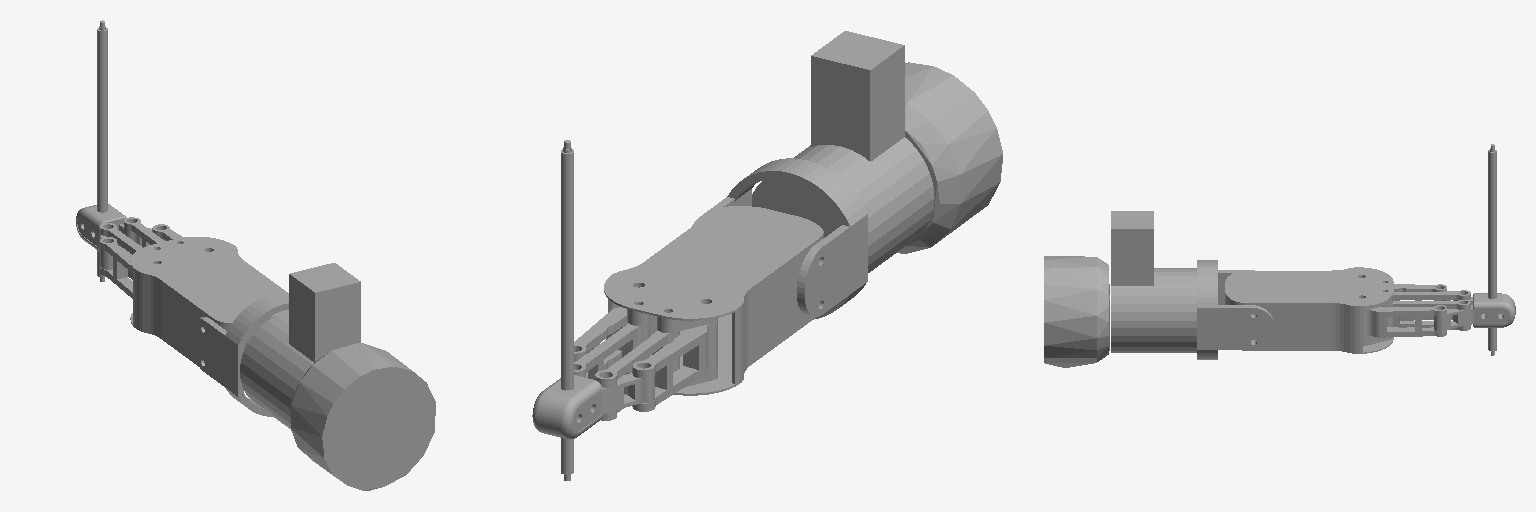
The robot description file, URDF, robot "ur5e_gripper":
<?xml version="1.0" encoding="utf-8"?>
<!-- =================================================================================== -->
<!-- |    This document was autogenerated by xacro from ur5e_robot.urdf.xacro          | -->
<!-- |    EDITING THIS FILE BY HAND IS NOT RECOMMENDED                                 | -->
<!-- =================================================================================== -->
<robot name="ur5e_gripper" xmlns:xacro="http://ros.org/wiki/xacro">
  
  <!--################################################
  ########              arm                    #######
  ####################################################-->

  <link name="base_link">
    <visual>
      <geometry>
        <mesh filename="package://moveit_resources_ur5e_description/meshes/ur5e/visual/base.dae"/>
      </geometry>
      <material name="LightGrey">
        <color rgba="0.7 0.7 0.7 1.0"/>
      </material>
    </visual>
    <collision>
      <geometry>
        <mesh filename="package://moveit_resources_ur5e_description/meshes/ur5e/collision/base.stl" scale="1.0 1.0 1.0"/>
      </geometry>
    </collision>
    <inertial>
      <mass value="4.0"/>
      <origin rpy="0 0 0" xyz="0.0 0.0 0.0"/>
      <inertia ixx="0.00443333156" ixy="0.0" ixz="0.0" iyy="0.00443333156" iyz="0.0" izz="0.0072"/>
    </inertial>
  </link>
  <joint name="shoulder_pan_joint" type="revolute">
    <parent link="base_link"/>
    <child link="shoulder_link"/>
    <origin rpy="0.0 0.0 0.0" xyz="0.0 0.0 0.163"/>
    <axis xyz="0 0 1"/>
    <limit effort="150.0" lower="-6.28318530718" upper="6.28318530718" velocity="3.14"/>
    <dynamics damping="0.0" friction="0.0"/>
  </joint>
  <link name="shoulder_link">
    <visual>
      <geometry>
        <mesh filename="package://moveit_resources_ur5e_description/meshes/ur5e/visual/shoulder.dae"/>
      </geometry>
      <material name="LightGrey">
        <color rgba="0.7 0.7 0.7 1.0"/>
      </material>
    </visual>
    <collision>
      <geometry>
        <mesh filename="package://moveit_resources_ur5e_description/meshes/ur5e/collision/shoulder.stl" scale="1.0 1.0 1.0"/>
      </geometry>
    </collision>
    <inertial>
      <mass value="3.7"/>
      <origin rpy="0 0 0" xyz="0.0 0.0 0.0"/>
      <inertia ixx="0.010267495893" ixy="0.0" ixz="0.0" iyy="0.010267495893" iyz="0.0" izz="0.00666"/>
    </inertial>
  </link>
  <joint name="shoulder_lift_joint" type="revolute">
    <parent link="shoulder_link"/>
    <child link="upper_arm_link"/>
    <origin rpy="0.0 1.57079632679 0.0" xyz="0.0 0.138 0.0"/>
    <axis xyz="0 1 0"/>
    <limit effort="150.0" lower="-6.28318530718" upper="6.28318530718" velocity="3.14"/>
    <dynamics damping="0.0" friction="0.0"/>
  </joint>
  <link name="upper_arm_link">
    <visual>
      <geometry>
        <mesh filename="package://moveit_resources_ur5e_description/meshes/ur5e/visual/upperarm.dae"/>
      </geometry>
      <material name="LightGrey">
        <color rgba="0.7 0.7 0.7 1.0"/>
      </material>
    </visual>
    <collision>
      <geometry>
        <mesh filename="package://moveit_resources_ur5e_description/meshes/ur5e/collision/upperarm.stl" scale="1.0 1.0 1.0"/>
      </geometry>
    </collision>
    <inertial>
      <mass value="8.393"/>
      <origin rpy="0 0 0" xyz="0.0 0.0 0.2125"/>
      <inertia ixx="0.133885781862" ixy="0.0" ixz="0.0" iyy="0.133885781862" iyz="0.0" izz="0.0151074"/>
    </inertial>
  </link>
  <joint name="elbow_joint" type="revolute">
    <parent link="upper_arm_link"/>
    <child link="forearm_link"/>
    <origin rpy="0.0 0.0 0.0" xyz="0.0 -0.131 0.425"/>
    <axis xyz="0 1 0"/>
    <limit effort="150.0" lower="-3.14159265359" upper="3.14159265359" velocity="3.14"/>
    <dynamics damping="0.0" friction="0.0"/>
  </joint>
  <link name="forearm_link">
    <visual>
      <geometry>
        <mesh filename="package://moveit_resources_ur5e_description/meshes/ur5e/visual/forearm.dae"/>
      </geometry>
      <material name="LightGrey">
        <color rgba="0.7 0.7 0.7 1.0"/>
      </material>
    </visual>
    <collision>
      <geometry>
        <mesh filename="package://moveit_resources_ur5e_description/meshes/ur5e/collision/forearm.stl" scale="1.0 1.0 1.0"/>
      </geometry>
    </collision>
    <inertial>
      <mass value="2.275"/>
      <origin rpy="0 0 0" xyz="0.0 0.0 0.196"/>
      <inertia ixx="0.0311796208615" ixy="0.0" ixz="0.0" iyy="0.0311796208615" iyz="0.0" izz="0.004095"/>
    </inertial>
  </link>
  <joint name="wrist_1_joint" type="revolute">
    <parent link="forearm_link"/>
    <child link="wrist_1_link"/>
    <origin rpy="0.0 1.57079632679 0.0" xyz="0.0 0.0 0.392"/>
    <axis xyz="0 1 0"/>
    <limit effort="28.0" lower="-6.28318530718" upper="6.28318530718" velocity="6.28"/>
    <dynamics damping="0.0" friction="0.0"/>
  </joint>
  <link name="wrist_1_link">
    <visual>
      <geometry>
        <mesh filename="package://moveit_resources_ur5e_description/meshes/ur5e/visual/wrist1.dae"/>
      </geometry>
      <material name="LightGrey">
        <color rgba="0.7 0.7 0.7 1.0"/>
      </material>
    </visual>
    <collision>
      <geometry>
        <mesh filename="package://moveit_resources_ur5e_description/meshes/ur5e/collision/wrist1.stl" scale="1.0 1.0 1.0"/>
      </geometry>
    </collision>
    <inertial>
      <mass value="1.219"/>
      <origin rpy="0 0 0" xyz="0.0 0.127 0.0"/>
      <inertia ixx="0.00255989897604" ixy="0.0" ixz="0.0" iyy="0.00255989897604" iyz="0.0" izz="0.0021942"/>
    </inertial>
  </link>
  <joint name="wrist_2_joint" type="revolute">
    <parent link="wrist_1_link"/>
    <child link="wrist_2_link"/>
    <origin rpy="0.0 0.0 0.0" xyz="0.0 0.127 0.0"/>
    <axis xyz="0 0 1"/>
    <limit effort="28.0" lower="-6.28318530718" upper="6.28318530718" velocity="6.28"/>
    <dynamics damping="0.0" friction="0.0"/>
  </joint>
  <link name="wrist_2_link">
    <visual>
      <geometry>
        <mesh filename="package://moveit_resources_ur5e_description/meshes/ur5e/visual/wrist2.dae"/>
      </geometry>
      <material name="LightGrey">
        <color rgba="0.7 0.7 0.7 1.0"/>
      </material>
    </visual>
    <collision>
      <geometry>
        <mesh filename="package://moveit_resources_ur5e_description/meshes/ur5e/collision/wrist2.stl" scale="1.0 1.0 1.0"/>
      </geometry>
    </collision>
    <inertial>
      <mass value="1.219"/>
      <origin rpy="0 0 0" xyz="0.0 0.0 0.1"/>
      <inertia ixx="0.00255989897604" ixy="0.0" ixz="0.0" iyy="0.00255989897604" iyz="0.0" izz="0.0021942"/>
    </inertial>
  </link>
  <joint name="wrist_3_joint" type="revolute">
    <parent link="wrist_2_link"/>
    <child link="wrist_3_link"/>
    <origin rpy="0.0 0.0 0.0" xyz="0.0 0.0 0.1"/>
    <axis xyz="0 1 0"/>
    <limit effort="28.0" lower="-6.28318530718" upper="6.28318530718" velocity="6.28"/>
    <dynamics damping="0.0" friction="0.0"/>
  </joint>
  <link name="wrist_3_link">
    <visual>
      <geometry>
        <mesh filename="package://moveit_resources_ur5e_description/meshes/ur5e/visual/wrist3.dae"/>
      </geometry>
      <material name="LightGrey">
        <color rgba="0.7 0.7 0.7 1.0"/>
      </material>
    </visual>
    <collision>
      <geometry>
        <mesh filename="package://moveit_resources_ur5e_description/meshes/ur5e/collision/wrist3.stl" scale="1.0 1.0 1.0"/>
      </geometry>
    </collision>
    <inertial>
      <mass value="0.1879"/>
      <origin rpy="1.57079632679 0 0" xyz="0.0 0.0771 0.0"/>
      <inertia ixx="9.89041005217e-05" ixy="0.0" ixz="0.0" iyy="9.89041005217e-05" iyz="0.0" izz="0.0001321171875"/>
    </inertial>
  </link>
  <joint name="ee_fixed_joint" type="fixed">
    <parent link="wrist_3_link"/>
    <child link="ee_link"/>
    <origin rpy="0.0 0.0 1.57079632679" xyz="0.0 0.1 0.0"/>
  </joint>
  <link name="ee_link">
    <collision>
      <geometry>
        <box size="0.01 0.01 0.01"/>
      </geometry>
      <origin rpy="0 0 0" xyz="-0.01 0 0"/>
    </collision>
  </link>

  <transmission name="shoulder_pan_trans">
    <type>transmission_interface/SimpleTransmission</type>
    <joint name="shoulder_pan_joint">
      <hardwareInterface>hardware_interface/PositionJointInterface</hardwareInterface>
    </joint>
    <actuator name="shoulder_pan_motor">
      <mechanicalReduction>1</mechanicalReduction>
    </actuator>
  </transmission>
  <transmission name="shoulder_lift_trans">
    <type>transmission_interface/SimpleTransmission</type>
    <joint name="shoulder_lift_joint">
      <hardwareInterface>hardware_interface/PositionJointInterface</hardwareInterface>
    </joint>
    <actuator name="shoulder_lift_motor">
      <mechanicalReduction>1</mechanicalReduction>
    </actuator>
  </transmission>
  <transmission name="elbow_trans">
    <type>transmission_interface/SimpleTransmission</type>
    <joint name="elbow_joint">
      <hardwareInterface>hardware_interface/PositionJointInterface</hardwareInterface>
    </joint>
    <actuator name="elbow_motor">
      <mechanicalReduction>1</mechanicalReduction>
    </actuator>
  </transmission>
  <transmission name="wrist_1_trans">
    <type>transmission_interface/SimpleTransmission</type>
    <joint name="wrist_1_joint">
      <hardwareInterface>hardware_interface/PositionJointInterface</hardwareInterface>
    </joint>
    <actuator name="wrist_1_motor">
      <mechanicalReduction>1</mechanicalReduction>
    </actuator>
  </transmission>
  <transmission name="wrist_2_trans">
    <type>transmission_interface/SimpleTransmission</type>
    <joint name="wrist_2_joint">
      <hardwareInterface>hardware_interface/PositionJointInterface</hardwareInterface>
    </joint>
    <actuator name="wrist_2_motor">
      <mechanicalReduction>1</mechanicalReduction>
    </actuator>
  </transmission>
  <transmission name="wrist_3_trans">
    <type>transmission_interface/SimpleTransmission</type>
    <joint name="wrist_3_joint">
      <hardwareInterface>hardware_interface/PositionJointInterface</hardwareInterface>
    </joint>
    <actuator name="wrist_3_motor">
      <mechanicalReduction>1</mechanicalReduction>
    </actuator>
  </transmission>
  <gazebo reference="shoulder_link">
    <selfCollide>true</selfCollide>
  </gazebo>
  <gazebo reference="upper_arm_link">
    <selfCollide>true</selfCollide>
  </gazebo>
  <gazebo reference="forearm_link">
    <selfCollide>true</selfCollide>
  </gazebo>
  <gazebo reference="wrist_1_link">
    <selfCollide>true</selfCollide>
  </gazebo>
  <gazebo reference="wrist_3_link">
    <selfCollide>true</selfCollide>
  </gazebo>
  <gazebo reference="wrist_2_link">
    <selfCollide>true</selfCollide>
  </gazebo>
  <gazebo reference="ee_link">
    <selfCollide>true</selfCollide>
  </gazebo>
  <!-- ROS base_link to UR 'Base' Coordinates transform -->
  <link name="base"/>
  <joint name="base_link-base_fixed_joint" type="fixed">
    <!-- NOTE: this rotation is only needed as long as base_link itself is
                 not corrected wrt the real robot (ie: rotated over 180
                 degrees)
      -->
    <origin rpy="0 0 -3.14159265359" xyz="0 0 0"/>
    <parent link="base_link"/>
    <child link="base"/>
  </joint>


    <!--################################################
  ########              gripper                  #####
  ####################################################-->

  <!-- robot -->
    <link name="robotiq_85_base_link">
      <visual>
        <geometry>
          <mesh filename="package://moveit_resources_ur5e_description/meshes/robotiq_85_gripper/visual/robotiq_85_base_link.dae"/>
        </geometry>
      </visual>
      <collision>
        <geometry>
          <mesh filename="package://moveit_resources_ur5e_description/meshes/robotiq_85_gripper/collision/robotiq_85_base_link.stl"/>
        </geometry>
      </collision>
      <inertial>
        <mass value="0.636951" />
        <origin xyz="0.0 0.0 0.0" />
        <inertia ixx = "0.000380" ixy = "0.000000" ixz = "0.000000"
             iyx = "0.000000" iyy = "0.001110" iyz = "0.000000"
             izx = "0.000000" izy = "0.000000" izz = "0.001171" />
      </inertial>
    </link>

    <joint name="robotiq_85_left_knuckle_joint" type="revolute">
      <parent link="robotiq_85_base_link"/>
      <child link="robotiq_85_left_knuckle_link"/>
      <axis xyz="0 0 1"/>
      <origin rpy="3.14 0.0 0.0" xyz="0.05490451627 0.03060114443 0.0"/>
      <limit lower="0.0" upper="0.80285" velocity="3.14" effort="1000"/>
    </joint>

    <joint name="robotiq_85_right_knuckle_joint" type="revolute">
      <parent link="robotiq_85_base_link"/>
      <child link="robotiq_85_right_knuckle_link"/>
      <axis xyz="0 0 1"/>
      <origin rpy="0.0 0.0 0.0" xyz="0.05490451627 -0.03060114443 0.0"/>
      <limit lower="-3.14" upper="3.14" velocity="3.14" effort="1000"/>
      <mimic joint="robotiq_85_left_knuckle_joint"/>
    </joint>

    <link name="robotiq_85_left_knuckle_link">
      <visual>
        <geometry>
          <mesh filename="package://moveit_resources_ur5e_description/meshes/robotiq_85_gripper/visual/robotiq_85_knuckle_link.dae"/>
        </geometry>
      </visual>
      <collision>
        <geometry>
          <mesh filename="package://moveit_resources_ur5e_description/meshes/robotiq_85_gripper/collision/robotiq_85_knuckle_link.stl"/>
        </geometry>
      </collision>
      <inertial>
        <mass value="0.018491" />
        <origin xyz="0.0 0.0 0.0" />
        <inertia ixx = "0.000009" ixy = "-0.000001" ixz = "0.000000"
             iyx = "-0.000001" iyy = "0.000001" iyz = "0.000000"
             izx = "0.000000" izy = "0.000000" izz = "0.000010" />
      </inertial>
    </link>

    <link name="robotiq_85_right_knuckle_link">
      <visual>
        <geometry>
          <mesh filename="package://moveit_resources_ur5e_description/meshes/robotiq_85_gripper/visual/robotiq_85_knuckle_link.dae"/>
        </geometry>
      </visual>
      <collision>
        <geometry>
          <mesh filename="package://moveit_resources_ur5e_description/meshes/robotiq_85_gripper/collision/robotiq_85_knuckle_link.stl"/>
        </geometry>
      </collision>
      <inertial>
        <mass value="0.018491" />
        <origin xyz="0.0 0.0 0.0" />
        <inertia ixx = "0.000009" ixy = "-0.000001" ixz = "0.000000"
             iyx = "-0.000001" iyy = "0.000001" iyz = "0.000000"
             izx = "0.000000" izy = "0.000000" izz = "0.000010" />
      </inertial>
    </link>

    <joint name="robotiq_85_left_finger_joint" type="fixed">
      <parent link="robotiq_85_left_knuckle_link"/>
      <child link="robotiq_85_left_finger_link"/>
      <origin xyz="-0.00408552455 -0.03148604435 0.0" rpy="0 0 0" />
    </joint>

    <joint name="robotiq_85_right_finger_joint" type="fixed">
      <parent link="robotiq_85_right_knuckle_link"/>
      <child link="robotiq_85_right_finger_link"/>
      <origin xyz="-0.00408552455 -0.03148604435 0.0" rpy="0 0 0" />
    </joint>

    <link name="robotiq_85_left_finger_link">
      <visual>
        <geometry>
          <mesh filename="package://moveit_resources_ur5e_description/meshes/robotiq_85_gripper/visual/robotiq_85_finger_link.dae"/>
        </geometry>
      </visual>
      <collision>
        <geometry>
          <mesh filename="package://moveit_resources_ur5e_description/meshes/robotiq_85_gripper/collision/robotiq_85_finger_link.stl"/>
        </geometry>
      </collision>
      <inertial>
        <mass value="0.027309" />
        <origin xyz="0.0 0.0 0.0" />
        <inertia ixx = "0.000003" ixy = "-0.000002" ixz = "0.000000"
             iyx = "-0.000002" iyy = "0.000021" iyz = "0.000000"
             izx = "0.000000" izy = "0.000000" izz = "0.000020" />
      </inertial>
    </link>

    <link name="robotiq_85_right_finger_link">
      <visual>
        <geometry>
          <mesh filename="package://moveit_resources_ur5e_description/meshes/robotiq_85_gripper/visual/robotiq_85_finger_link.dae"/>
        </geometry>
      </visual>
      <collision>
        <geometry>
          <mesh filename="package://moveit_resources_ur5e_description/meshes/robotiq_85_gripper/collision/robotiq_85_finger_link.stl"/>
        </geometry>
      </collision>
      <inertial>
        <mass value="0.027309" />
        <origin xyz="0.0 0.0 0.0" />
        <inertia ixx = "0.000003" ixy = "-0.000002" ixz = "0.000000"
             iyx = "-0.000002" iyy = "0.000021" iyz = "0.000000"
             izx = "0.000000" izy = "0.000000" izz = "0.000020" />
      </inertial>
    </link>

    <joint name="robotiq_85_left_inner_knuckle_joint" type="revolute">
      <parent link="robotiq_85_base_link"/>
      <child link="robotiq_85_left_inner_knuckle_link"/>
      <axis xyz="0 0 1"/>
      <origin xyz="0.06142 0.0127 0" rpy="3.14 0.0 0.0" />
      <limit lower="-3.14" upper="3.14" velocity="3.14" effort="0.1"/>
      <mimic joint="robotiq_85_left_knuckle_joint" offset="0"/>
    </joint>

    <joint name="robotiq_85_right_inner_knuckle_joint" type="revolute">
      <parent link="robotiq_85_base_link"/>
      <child link="robotiq_85_right_inner_knuckle_link"/>
      <axis xyz="0 0 1"/>
      <origin xyz="0.06142 -0.0127 0" rpy="0 0 0"/>
      <limit lower="-3.14" upper="3.14" velocity="3.14" effort="0.1"/>
      <mimic joint="robotiq_85_left_knuckle_joint" offset="0"/>
    </joint>

    <link name="robotiq_85_left_inner_knuckle_link">
      <visual>
        <geometry>
          <mesh filename="package://moveit_resources_ur5e_description/meshes/robotiq_85_gripper/visual/robotiq_85_inner_knuckle_link.dae"/>
        </geometry>
      </visual>
      <collision>
        <geometry>
          <mesh filename="package://moveit_resources_ur5e_description/meshes/robotiq_85_gripper/collision/robotiq_85_inner_knuckle_link.stl"/>
        </geometry>
      </collision>
      <inertial>
        <mass value="0.029951" />
        <origin xyz="0.0 0.0 0.0" />
        <inertia ixx = "0.000039" ixy = "0.000000" ixz = "0.000000"
             iyx = "0.000000" iyy = "0.000005" iyz = "0.000000"
             izx = "0.000000" izy = "0.000000" izz = "0.000035" />
      </inertial>
    </link>
    <link name="robotiq_85_right_inner_knuckle_link">
      <visual>
        <geometry>
          <mesh filename="package://moveit_resources_ur5e_description/meshes/robotiq_85_gripper/visual/robotiq_85_inner_knuckle_link.dae"/>
        </geometry>
      </visual>
      <collision>
        <geometry>
          <mesh filename="package://moveit_resources_ur5e_description/meshes/robotiq_85_gripper/collision/robotiq_85_inner_knuckle_link.stl"/>
        </geometry>
      </collision>
      <inertial>
        <mass value="0.029951" />
        <origin xyz="0.0 0.0 0.0" />
        <inertia ixx = "0.000039" ixy = "0.000000" ixz = "0.000000"
             iyx = "0.000000" iyy = "0.000005" iyz = "0.000000"
             izx = "0.000000" izy = "0.000000" izz = "0.000035" />
      </inertial>
    </link>

    <joint name="robotiq_85_left_finger_tip_joint" type="revolute">
      <parent link="robotiq_85_left_inner_knuckle_link"/>
      <child link="robotiq_85_left_finger_tip_link"/>
      <axis xyz="0 0 1"/>
      <origin xyz="0.04303959807 -0.03759940821 0.0" rpy="0.0 0.0 0.0"/>
      <limit lower="-3.14" upper="3.14" velocity="3.14" effort="0.1"/>
      <mimic joint="robotiq_85_left_knuckle_joint" multiplier="-1"/>
    </joint>

    <joint name="robotiq_85_right_finger_tip_joint" type="revolute">
      <parent link="robotiq_85_right_inner_knuckle_link"/>
      <child link="robotiq_85_right_finger_tip_link"/>
      <axis xyz="0 0 1"/>
      <origin rpy="0.0 0.0 0.0" xyz="0.04303959807 -0.03759940821  0.0"/>
      <limit lower="-3.14" upper="3.14" velocity="3.14" effort="0.1"/>
      <mimic joint="robotiq_85_left_knuckle_joint" multiplier="-1"/>
    </joint>


    <link name="robotiq_85_left_finger_tip_link">
      <visual>
        <geometry>
          <mesh filename="package://moveit_resources_ur5e_description/meshes/robotiq_85_gripper/visual/robotiq_85_finger_tip_link.dae"/>
        </geometry>
      </visual>
      <collision>
        <geometry>
          <mesh filename="package://moveit_resources_ur5e_description/meshes/robotiq_85_gripper/collision/robotiq_85_finger_tip_link.stl"/>
        </geometry>
      </collision>
      <inertial>
        <mass value="0.019555" />
        <origin xyz="0.0 0.0 0.0" />
        <inertia ixx = "0.000002" ixy = "0.000000" ixz = "0.000000"
             iyx = "0.000000" iyy = "0.000005" iyz = "0.000000"
             izx = "0.000000" izy = "0.000000" izz = "0.000006" />
      </inertial>
    </link>

    <link name="robotiq_85_right_finger_tip_link">
      <visual>
        <geometry>
          <mesh filename="package://moveit_resources_ur5e_description/meshes/robotiq_85_gripper/visual/robotiq_85_finger_tip_link.dae"/>
        </geometry>
      </visual>
      <collision>
        <geometry>
          <mesh filename="package://moveit_resources_ur5e_description/meshes/robotiq_85_gripper/collision/robotiq_85_finger_tip_link.stl"/>
        </geometry>
      </collision>
      <inertial>
        <mass value="0.019555" />
        <origin xyz="0.0 0.0 0.0" />
        <inertia ixx = "0.000002" ixy = "0.000000" ixz = "0.000000"
             iyx = "0.000000" iyy = "0.000005" iyz = "0.000000"
             izx = "0.000000" izy = "0.000000" izz = "0.000006" />
      </inertial>
    </link>


  <!-- Frame coincident with all-zeros TCP on UR controller -->
  <link name="tool0"/>
  <joint name="wrist_3_link-tool0_fixed_joint" type="fixed">
    <origin rpy="-1.57079632679 0 0" xyz="0 0.1 0"/>
    <parent link="wrist_3_link"/>
    <child link="tool0"/>
  </joint>

  <link name="world"/>
  <joint name="world_joint" type="fixed">
    <parent link="world"/>
    <child link="base_link"/>
    <origin rpy="0.0 0.0 0.0" xyz="0.0 0.0 0.0"/>
  </joint>
  
    <!-- connect gripper to arm -->
  <joint name="arm_gripper_joint" type="fixed">
    <parent link="wrist_3_link"/>
    <child link="robotiq_85_base_link"/>
    <origin rpy="0.0 0.0 1.5708" xyz="0.0 0.089 0.0"/>
  </joint>
</robot>

--- Render facts (derived) ---
The picture shows the robot from 3 angles, left to right: view 1: azimuth 30°, elevation 25°; view 2: azimuth 150°, elevation 25°; view 3: azimuth 270°, elevation 25°; orthographic projection.
Robot: ur5e_gripper — 20 links, 19 joints (12 revolute, 7 fixed); root link world; default pose: all joints at 0.
Links seen in each view (by area): view 1: wrist_3_link; view 2: wrist_3_link; view 3: wrist_3_link.
Boxes of the visible links, <box> form: wrist_3_link: <box>76,20,435,490</box>; wrist_3_link: <box>532,31,1002,480</box>; wrist_3_link: <box>1044,144,1515,367</box>.
Bounding box of the posed robot: 0.0751 × 0.3309 × 0.1721 m (x, y, z).
Meshes: 12 distinct files referenced, 1 mesh visuals loaded (1 Collada DAE); not drawn: 15 (reference not matched to a file when rendering).